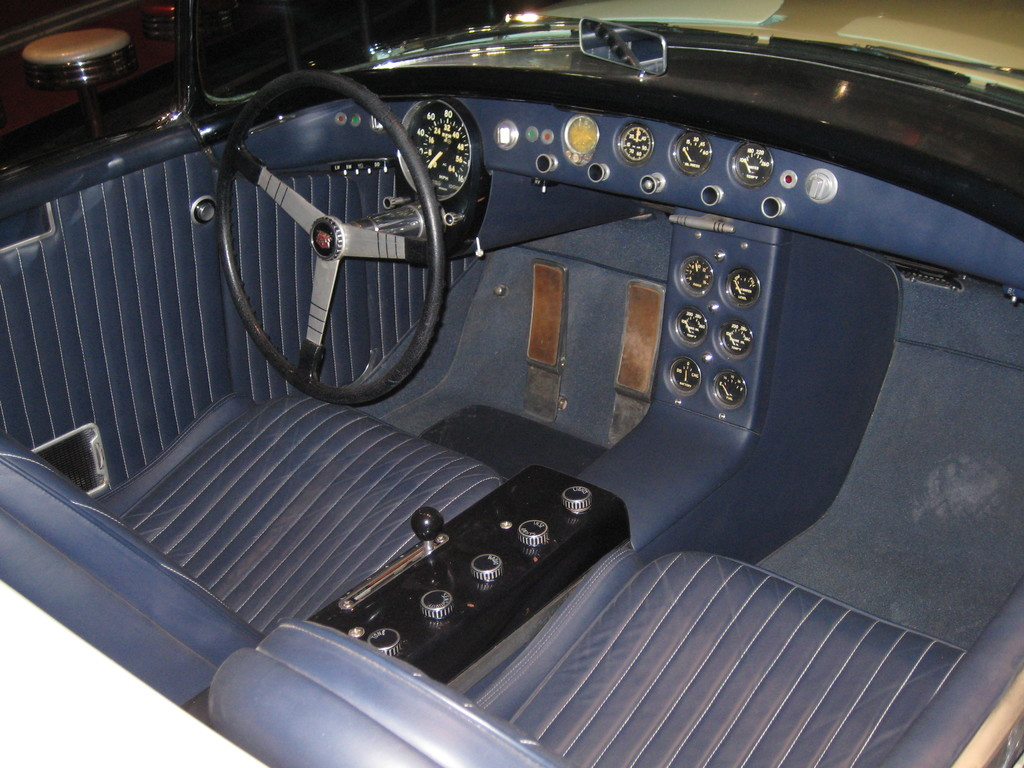Car: (39, 7, 1002, 762)
